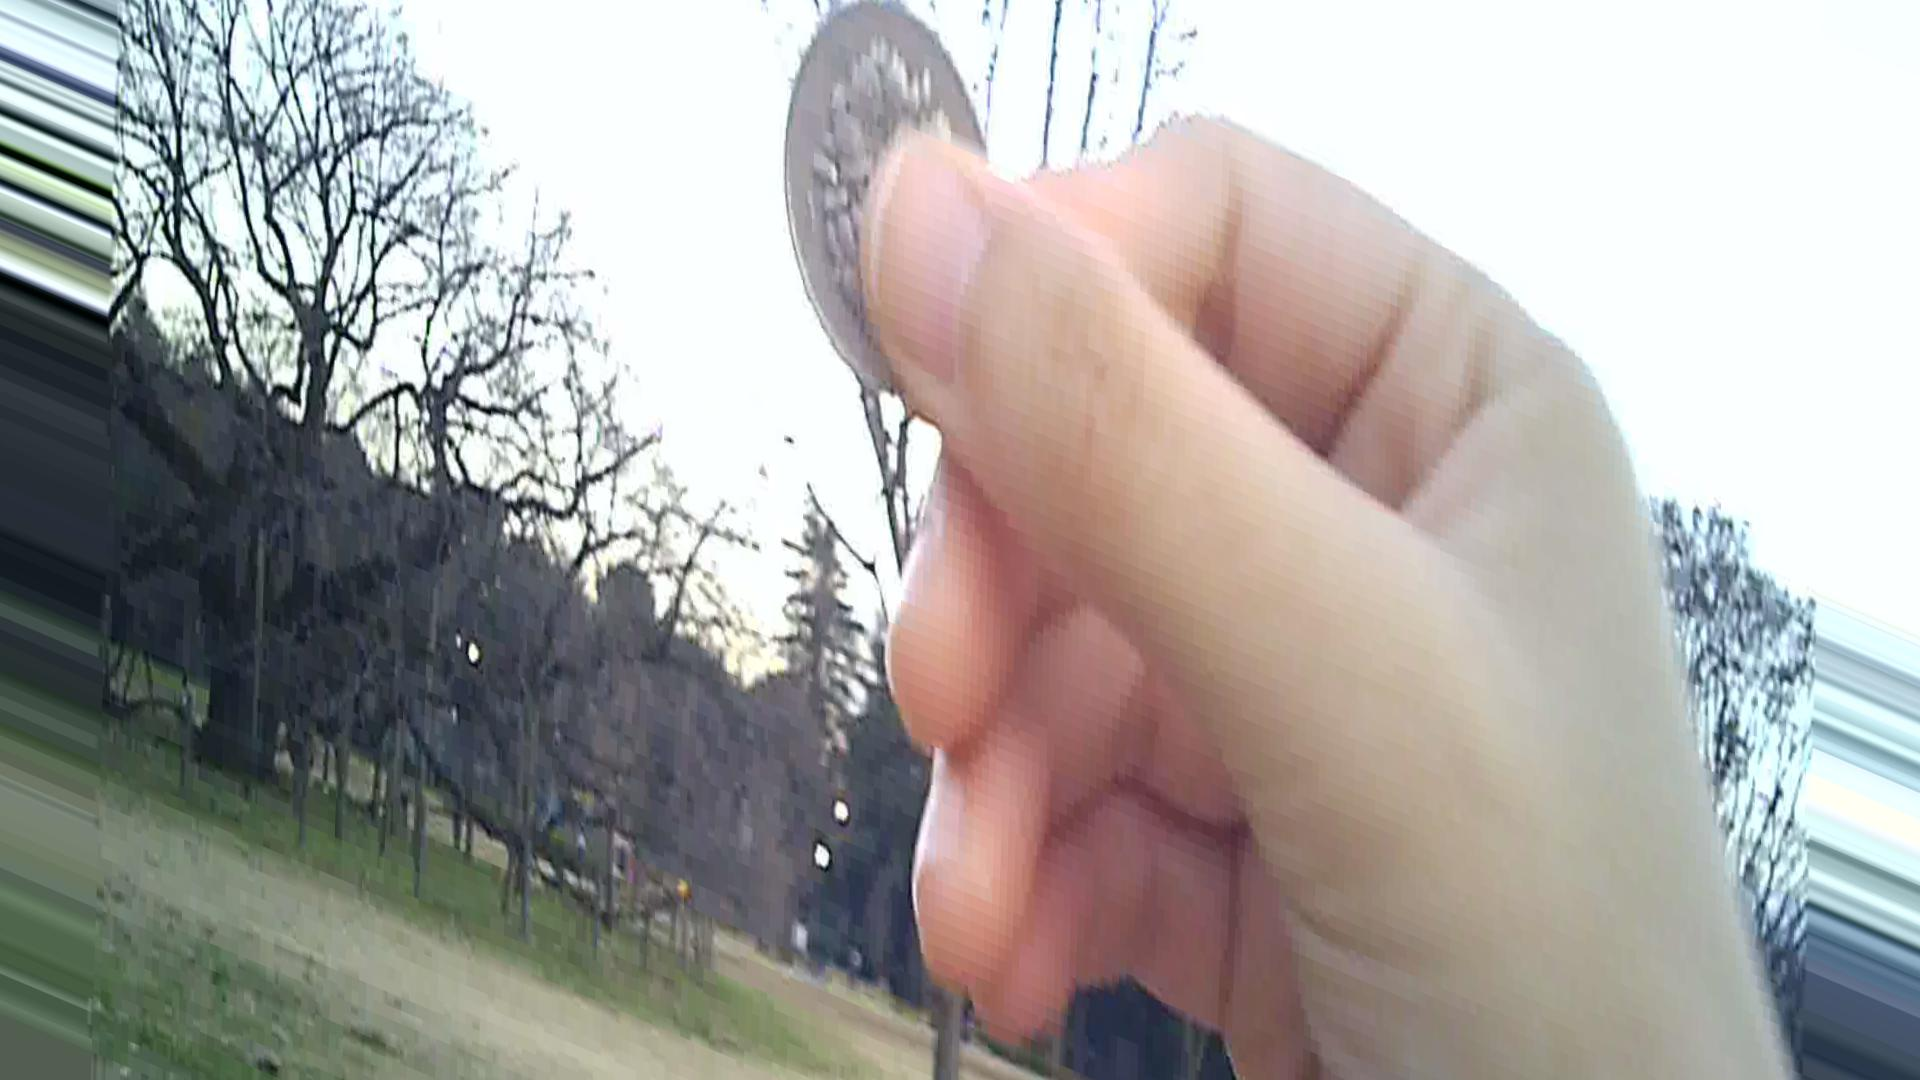100 Yen: (764, 7, 1013, 411)
